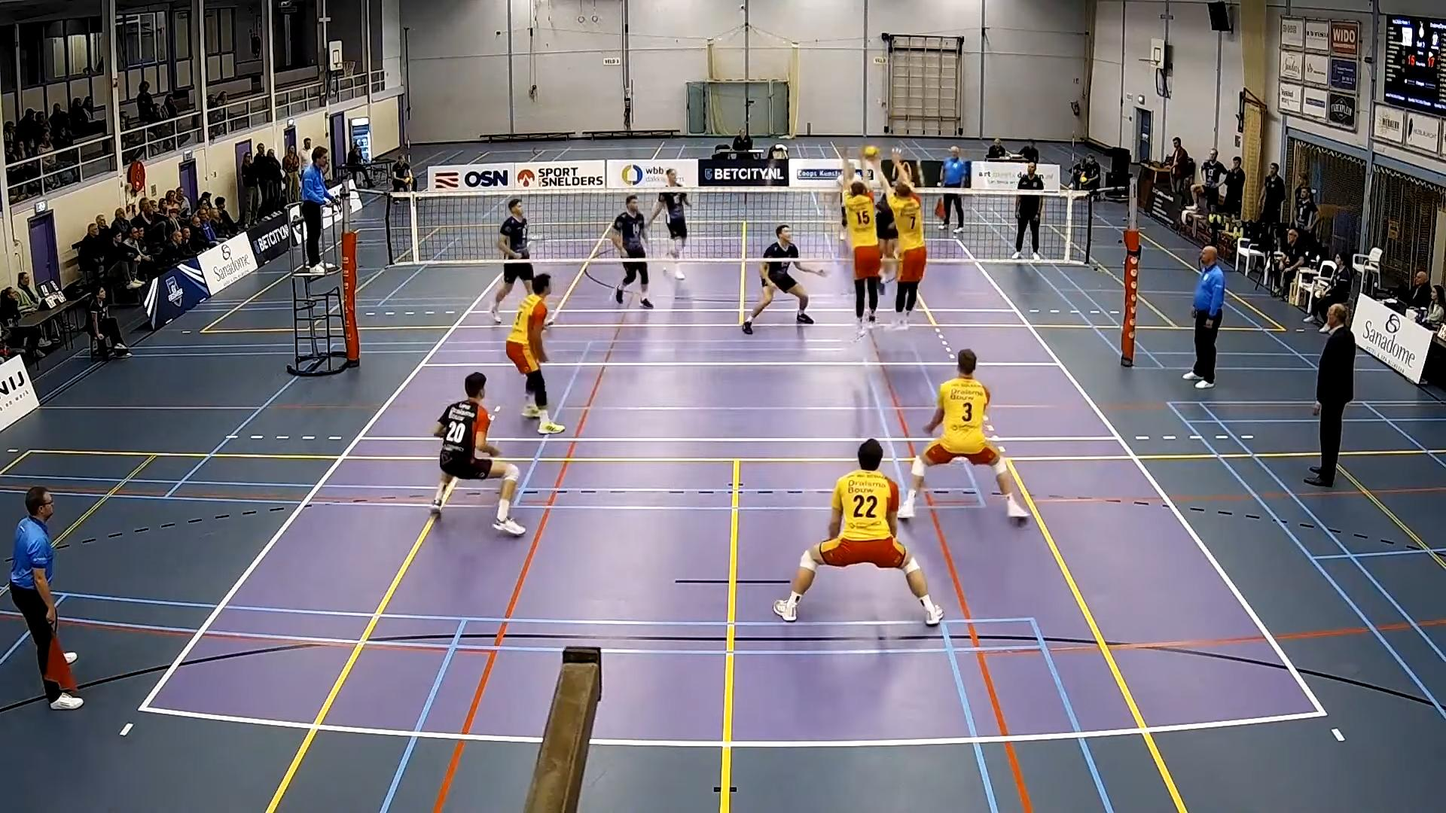attacco: (871, 147, 900, 293)
muro: (839, 146, 882, 333), (878, 153, 925, 310)
